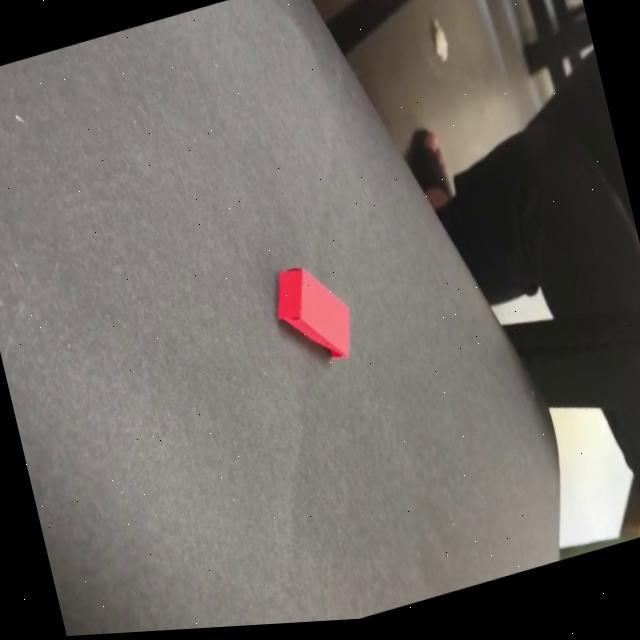red block: (266, 252, 360, 376)
